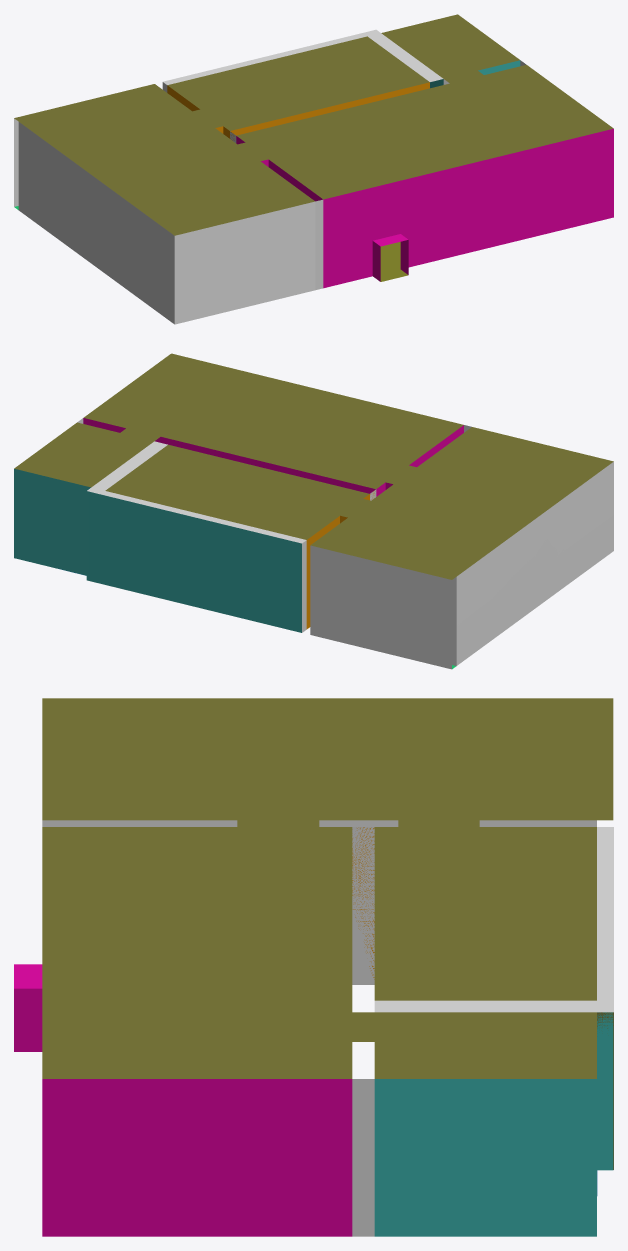
Rendered from kitchen sklad.fbx.
3 renders of one model, top to bottom at view 1: azimuth 30°, elevation 25°; view 2: azimuth 150°, elevation 25°; view 3: azimuth 270°, elevation 25°, orthographic. The views are drawn at different scales.
Visible parts, largest first — view 1: kitchen1; view 2: kitchen1; view 3: kitchen1.
Part boxes in pixels (<box>): kitchen1: <box>14,14,613,324</box>; kitchen1: <box>14,353,613,669</box>; kitchen1: <box>14,698,613,1236</box>.
Bounding box in the file's own units: 34.27 × 6.62 × 22.82.
